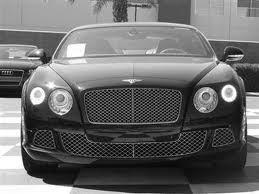car: (21, 22, 248, 183)
